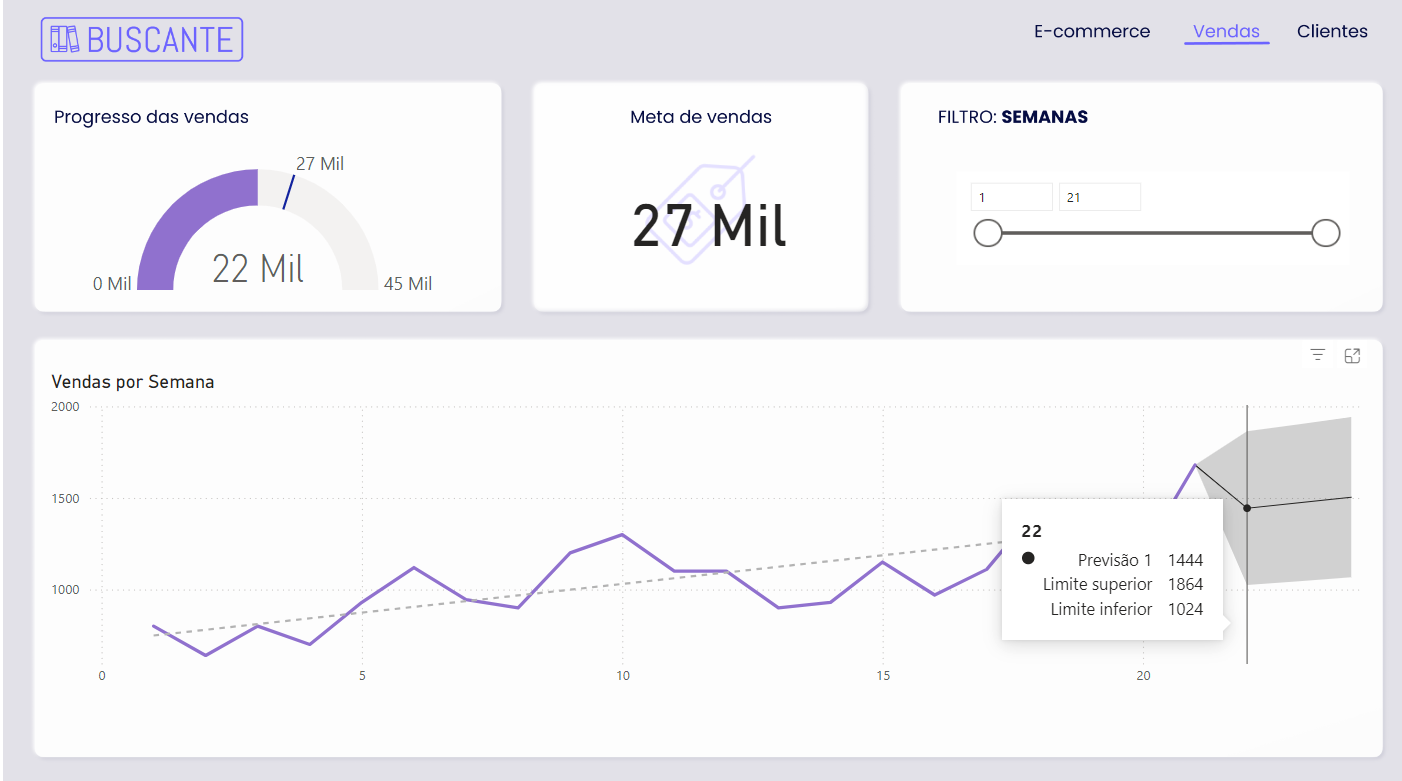

This screenshot's page, from the dashboard's own definition file:
{"tool":"powerbi","page":{"name":"vendas","canvas":[1280,720],"ordinal":1},"visuals":[{"type":"gauge","fields":{"Y":["Sum(Vendas por semana (2).Vendas)"],"TargetValue":["Sum(Vendas por semana (2).Meta de vendas)"]},"box":[38.9,126.4,393.9,150.8],"z":0},{"type":"card","fields":{"Values":["Sum(Vendas por semana (2).Meta de vendas)"]},"box":[522.3,118.7,235.4,166.3],"z":1},{"type":"slicer","fields":{"Values":["Vendas por semana (2).Semanas"]},"box":[864.7,159.5,356,84.6],"z":2},{"type":"lineChart","title":"Vendas por Semana","fields":{"Category":["Vendas por semana (2).Semanas"],"Y":["Sum(Vendas por semana (2).Vendas)"]},"box":[38.9,340.4,1199.3,295.7],"z":3},{"type":"actionButton","box":[1155.5,14.6,100.2,39.9],"z":4},{"type":"actionButton","box":[929.8,14.6,119.6,39.9],"z":5}]}

Visuals, with their boxes in screenshot pixels (x1, y1, x2, y2), scaled from the page's 1280x720 canvas onto the 1402x781 screenshot:
gauge - Sum(Vendas por semana (2).Vendas) x Sum(Vendas por semana (2).Meta de vendas): box(43, 137, 474, 301)
card - Sum(Vendas por semana (2).Meta de vendas): box(572, 129, 830, 309)
slicer - Vendas por semana (2).Semanas: box(947, 173, 1337, 265)
"Vendas por Semana" lineChart: box(43, 369, 1356, 690)
actionButton: box(1266, 16, 1375, 59)
actionButton: box(1018, 16, 1149, 59)
